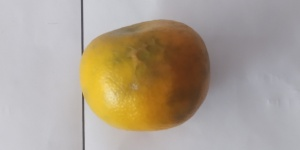BAD: (79, 17, 212, 130)
